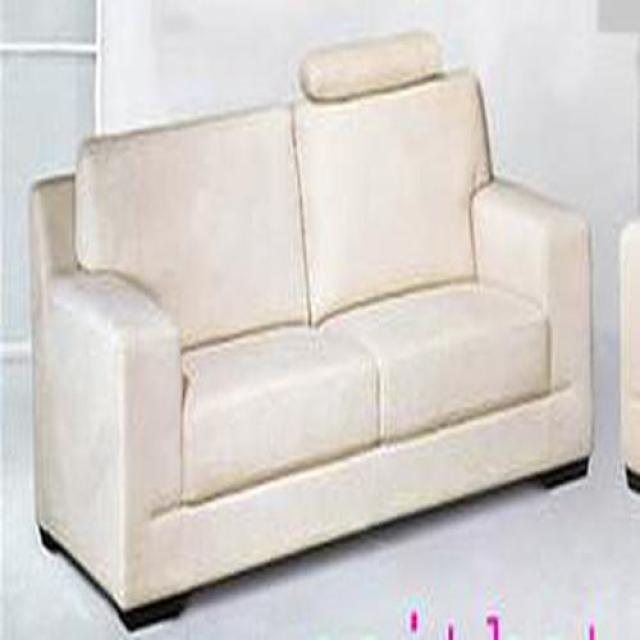sofa: (29, 31, 594, 630)
